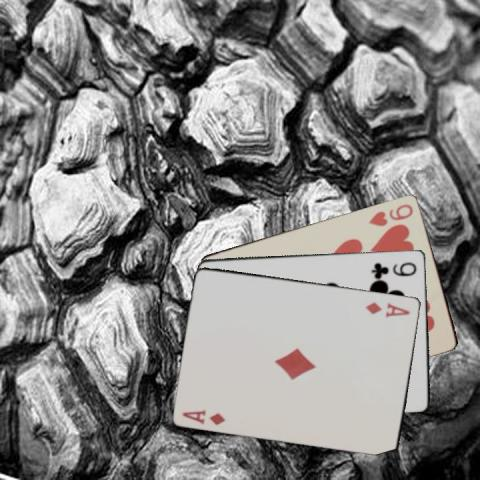9c: (369, 259, 418, 276)
9h: (365, 201, 415, 227)
Ad: (363, 299, 412, 318), (180, 407, 228, 426)
